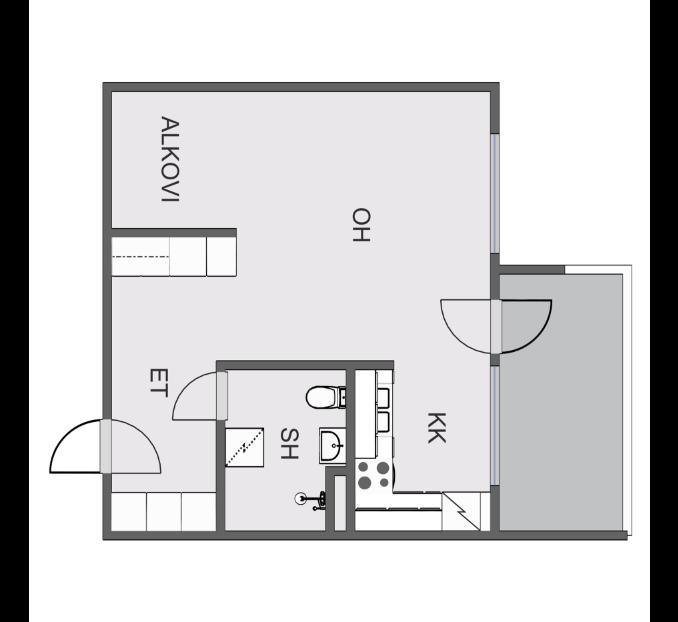bathroom: (220, 370, 347, 530)
door: (487, 296, 554, 358), (46, 415, 111, 478), (438, 293, 501, 357), (99, 416, 164, 478), (168, 367, 228, 424)
perimeter: (101, 79, 500, 542)
window: (484, 362, 504, 490), (485, 125, 501, 261)
